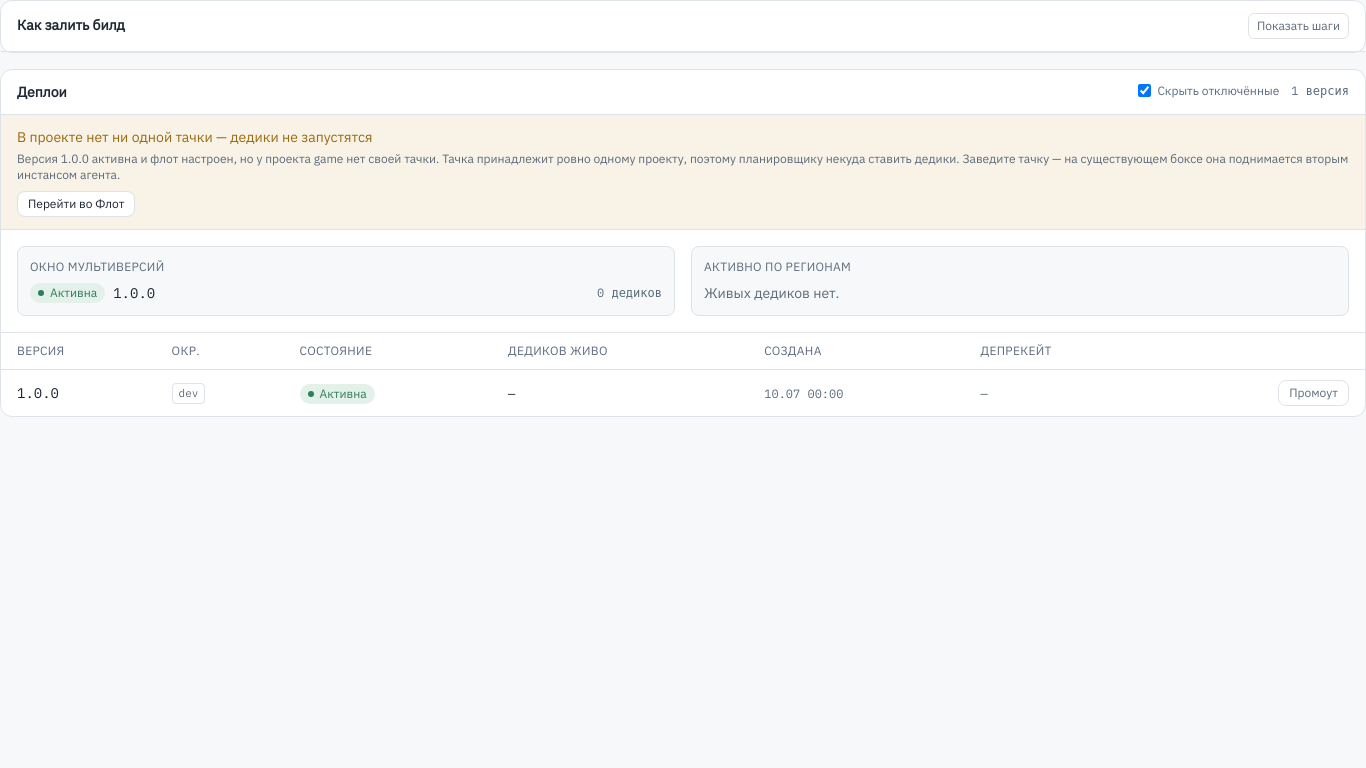
Test: PromoteDialog: 403 привязанного ключа — головная поверхность #1005 › RU: диалог называет привязку своими словами, английской строки мастера нет
Click the button "Промоут" at x=1314, y=393, box [1278,380,1349,406]
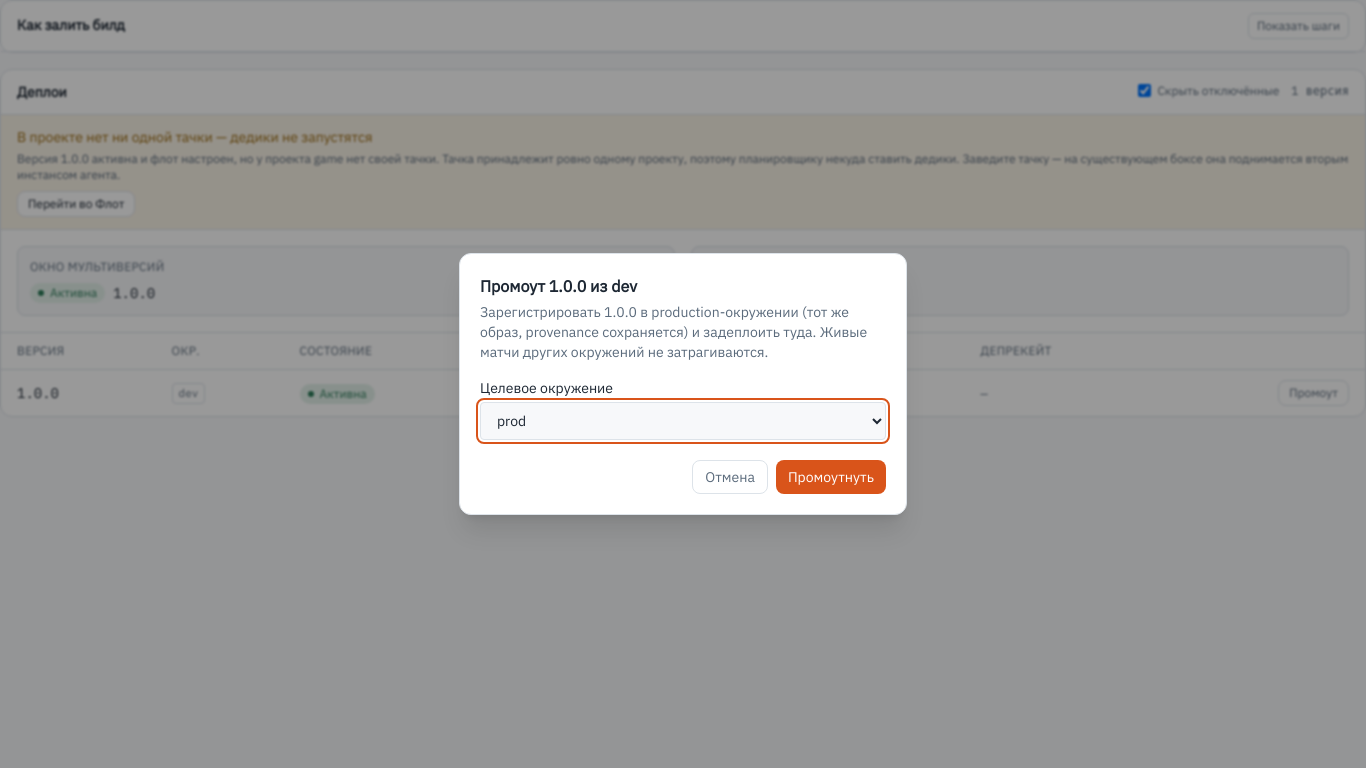
Click the button "Промоутнуть" at x=831, y=477, box [776,460,886,494]
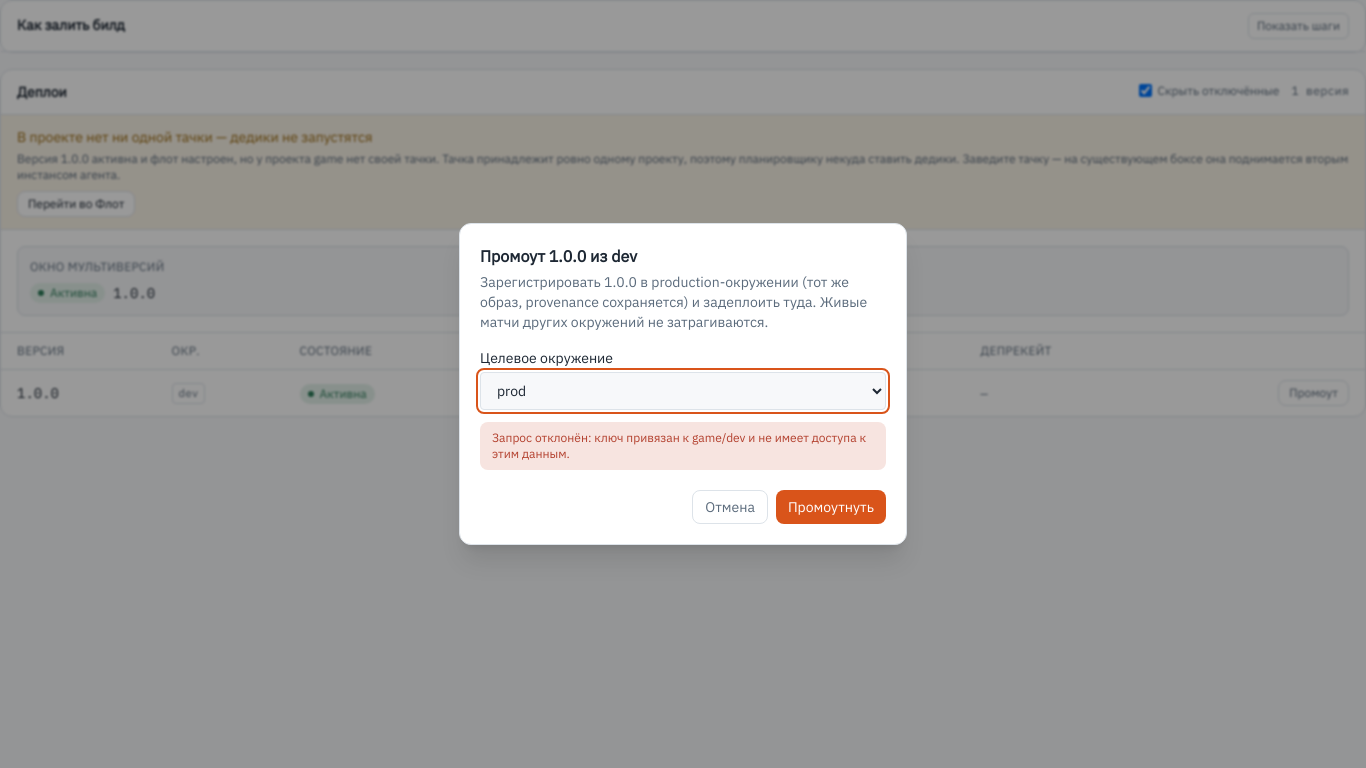
Check: the text "Запрос отклонён: ключ привязан к game/dev и не имеет доступа к этим данным." is shown, box [480,422,886,470]
